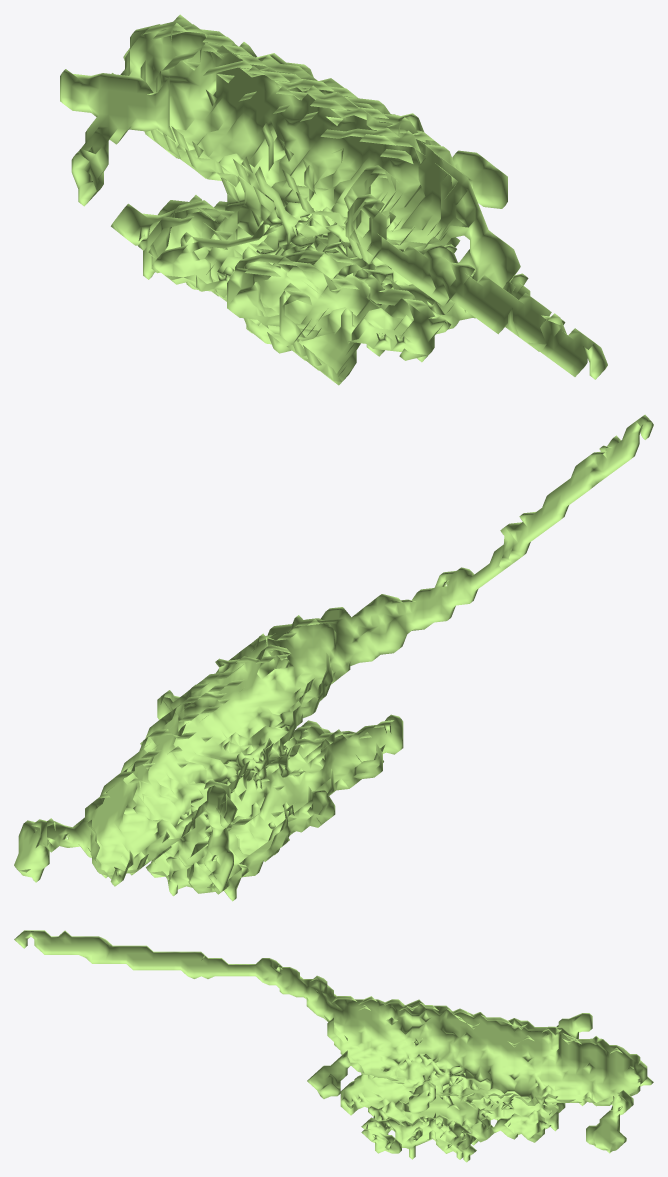
File: osteocyte_34.glb
The picture shows the model from 3 angles, top to bottom: view 1: azimuth 30°, elevation 25°; view 2: azimuth 150°, elevation 25°; view 3: azimuth 270°, elevation 25°; orthographic projection. The views are drawn at different scales.
Parts seen in each view (by area): view 1: osteocyte_34; view 2: osteocyte_34; view 3: osteocyte_34.
Part boxes in pixels (x1,y1,x2,y2): osteocyte_34: (60, 14, 607, 385); osteocyte_34: (14, 414, 653, 901); osteocyte_34: (14, 930, 653, 1162).
Size of the model in its own units: 12.52 by 13.48 by 45.26.
